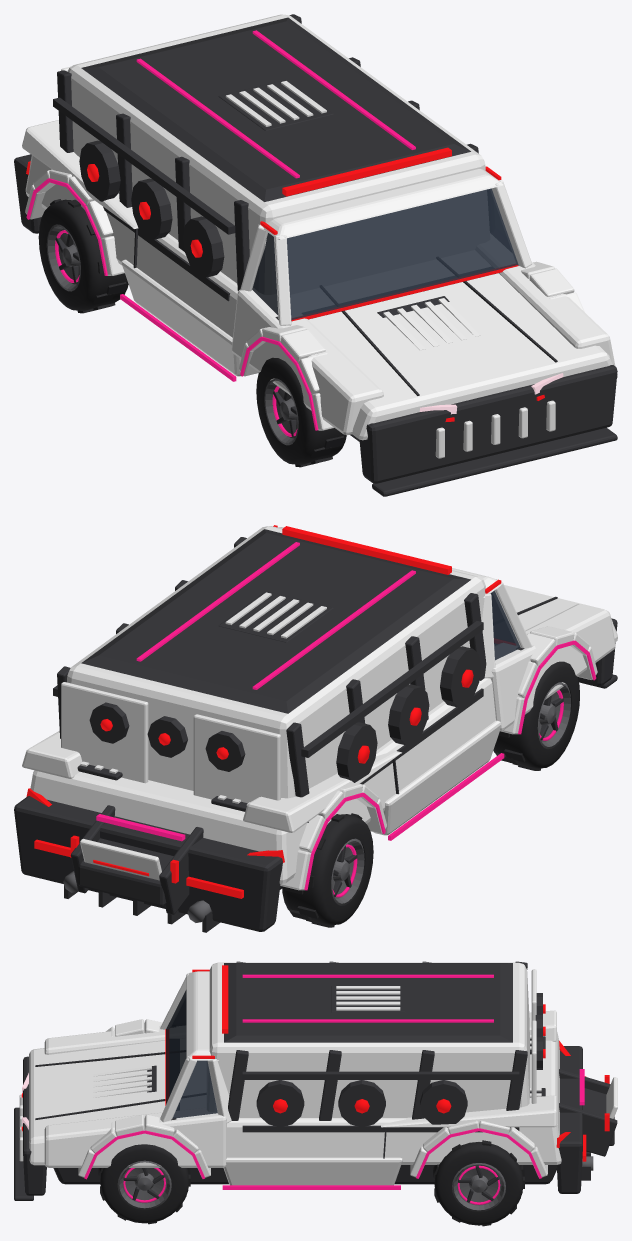
File: mine_layer_hero.glb
3 renders of one model, top to bottom at view 1: azimuth 30°, elevation 25°; view 2: azimuth 150°, elevation 25°; view 3: azimuth 270°, elevation 25°, orthographic. The views are drawn at different scales.
Visible parts, largest first — view 1: mine_layer_body, wheel_RL_mesh, wheel_FL_mesh; view 2: mine_layer_body, wheel_RL_mesh, wheel_FL_mesh, chute_hatch_mesh; view 3: mine_layer_body, wheel_RR_mesh, wheel_FR_mesh, chute_hatch_mesh.
Part boxes in pixels (<box>): mine_layer_body: <box>14,14,617,496</box>; wheel_RL_mesh: <box>38,199,128,313</box>; wheel_FL_mesh: <box>256,357,346,467</box>; mine_layer_body: <box>14,525,617,932</box>; wheel_RL_mesh: <box>282,813,373,927</box>; wheel_FL_mesh: <box>493,661,579,770</box>; chute_hatch_mesh: <box>80,838,161,880</box>; mine_layer_body: <box>14,961,617,1200</box>; wheel_RR_mesh: <box>433,1140,524,1226</box>; wheel_FR_mesh: <box>98,1144,190,1224</box>; chute_hatch_mesh: <box>606,1077,617,1118</box>.
Bounding box in the file's own units: 2.06 × 1.56 × 4.81.
6 materials, 1 textured.
